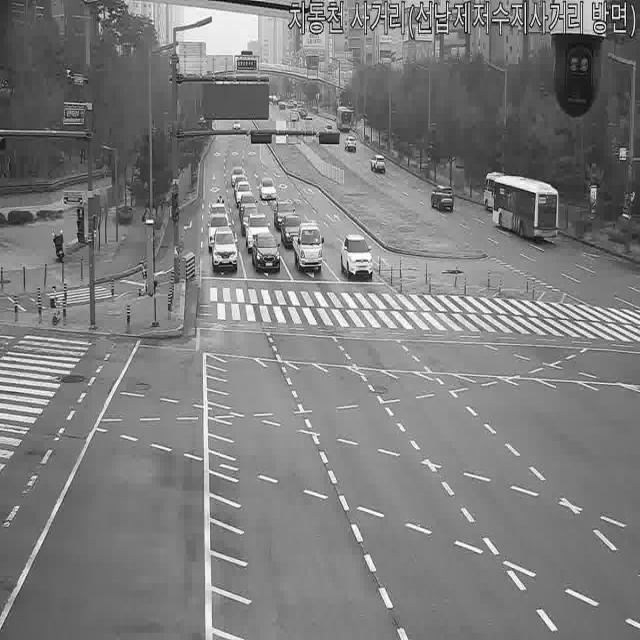Bus: (486, 172, 561, 244), (482, 173, 512, 211), (334, 105, 352, 132)
Car: (340, 233, 372, 280), (210, 228, 238, 274), (251, 233, 281, 274), (244, 213, 271, 252), (206, 214, 232, 251), (281, 214, 306, 249), (273, 200, 296, 231), (239, 207, 263, 235), (208, 201, 230, 231), (430, 185, 454, 211), (239, 193, 258, 220), (258, 178, 277, 202), (235, 181, 252, 207), (230, 166, 246, 188), (370, 154, 386, 173), (345, 136, 356, 152), (324, 121, 335, 134), (289, 110, 299, 124), (285, 97, 297, 108), (296, 106, 306, 118), (268, 93, 278, 104)
Motorcycle: (216, 192, 226, 213)
Truck: (294, 221, 324, 273)
